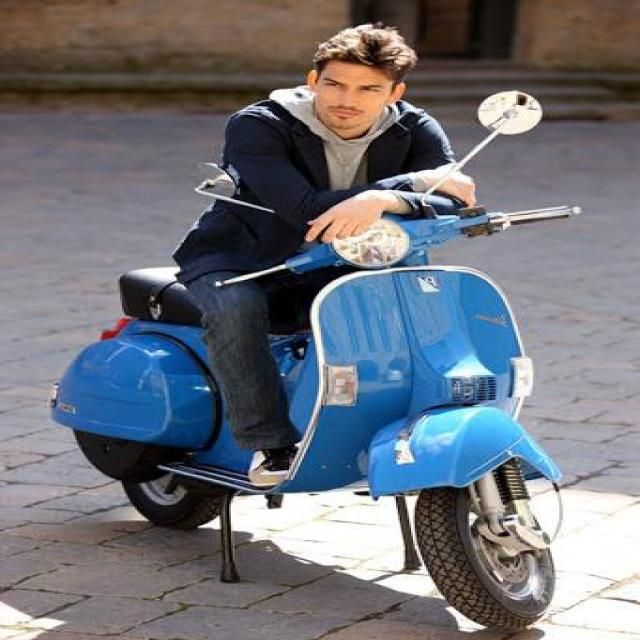Not Wearing Helmet: (287, 23, 472, 120)
